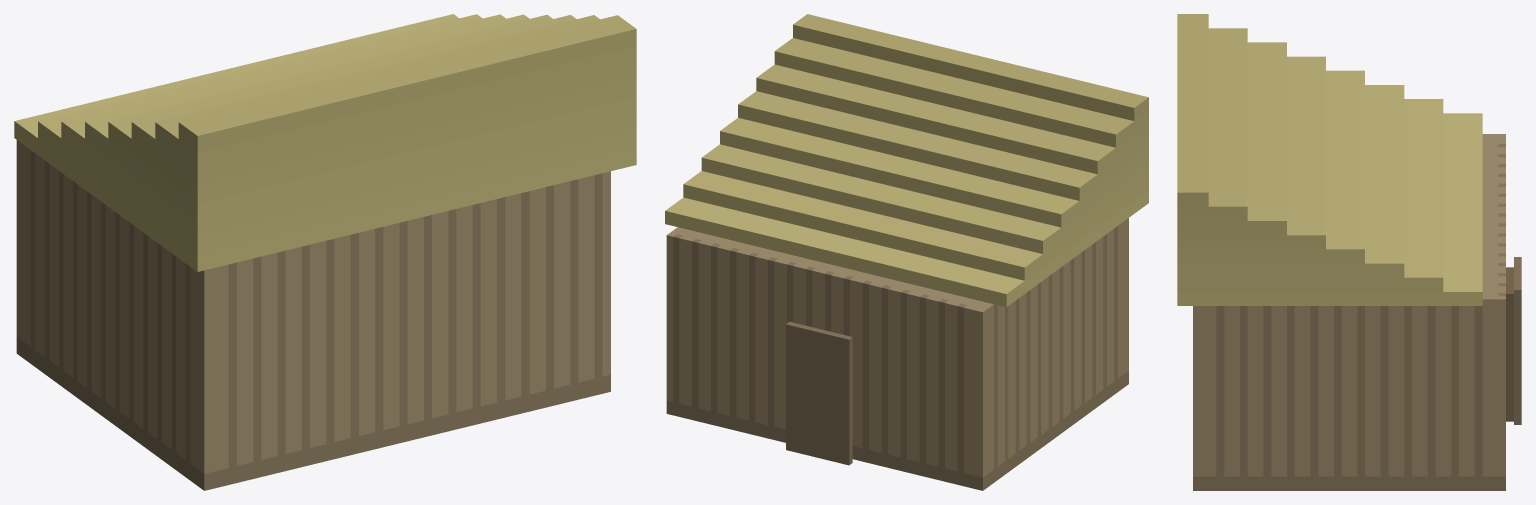
File: carromato_mercader_02.glb
3 views of the same model, side by side, from view 1: azimuth 30°, elevation 25°; view 2: azimuth 150°, elevation 25°; view 3: azimuth 270°, elevation 25° (orthographic). The views are drawn at different scales.
Visible parts, largest first — view 1: carromato_mercader_02; view 2: carromato_mercader_02; view 3: carromato_mercader_02.
Boxes of the visible parts, x1=… form: carromato_mercader_02: x1=14, y1=14, x2=636, y2=490; carromato_mercader_02: x1=665, y1=14, x2=1148, y2=490; carromato_mercader_02: x1=1177, y1=14, x2=1521, y2=490.
Size of the model in its own units: 5.4 by 4.3 by 4.4.
